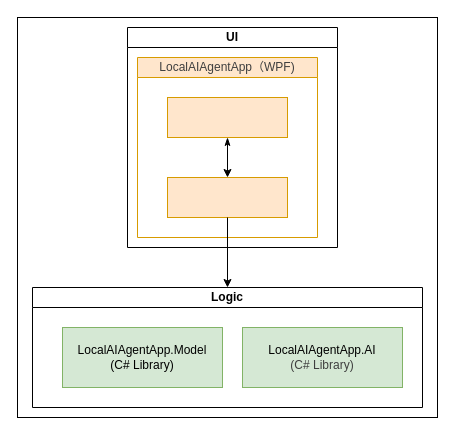
The diagram is 455 pixels wide and 435 high, and some of its shapes have lost their labels. Each missing label, with the centre of its shape:
View: the point at 227,117
ViewModel: the point at 227,197
